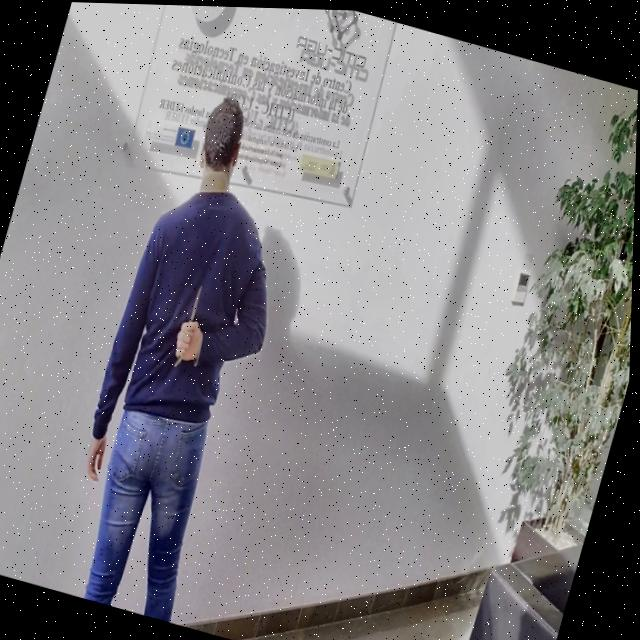knife: (185, 272, 211, 322)
